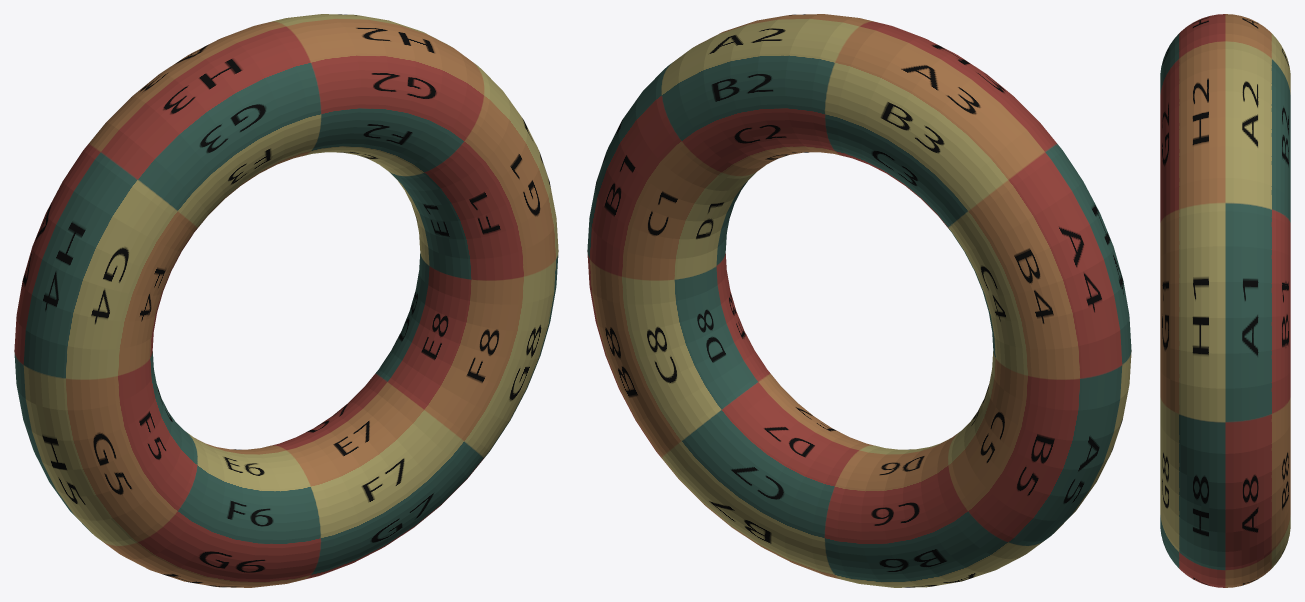
File: texture_torus_R6_r8.glb
The picture shows the model from 3 angles, left to right: view 1: azimuth 30°, elevation 25°; view 2: azimuth 150°, elevation 25°; view 3: azimuth 270°, elevation 25°; orthographic projection. The views are drawn at different scales.
Visible parts, largest first — view 1: world; view 2: world; view 3: world.
Part boxes in pixels (bbox=[...]): world: bbox=[14, 14, 558, 587]; world: bbox=[587, 14, 1131, 587]; world: bbox=[1160, 14, 1290, 587].
Size of the model in its own units: 18.13 by 18.1 by 4.13.
1 material, 1 textured.
